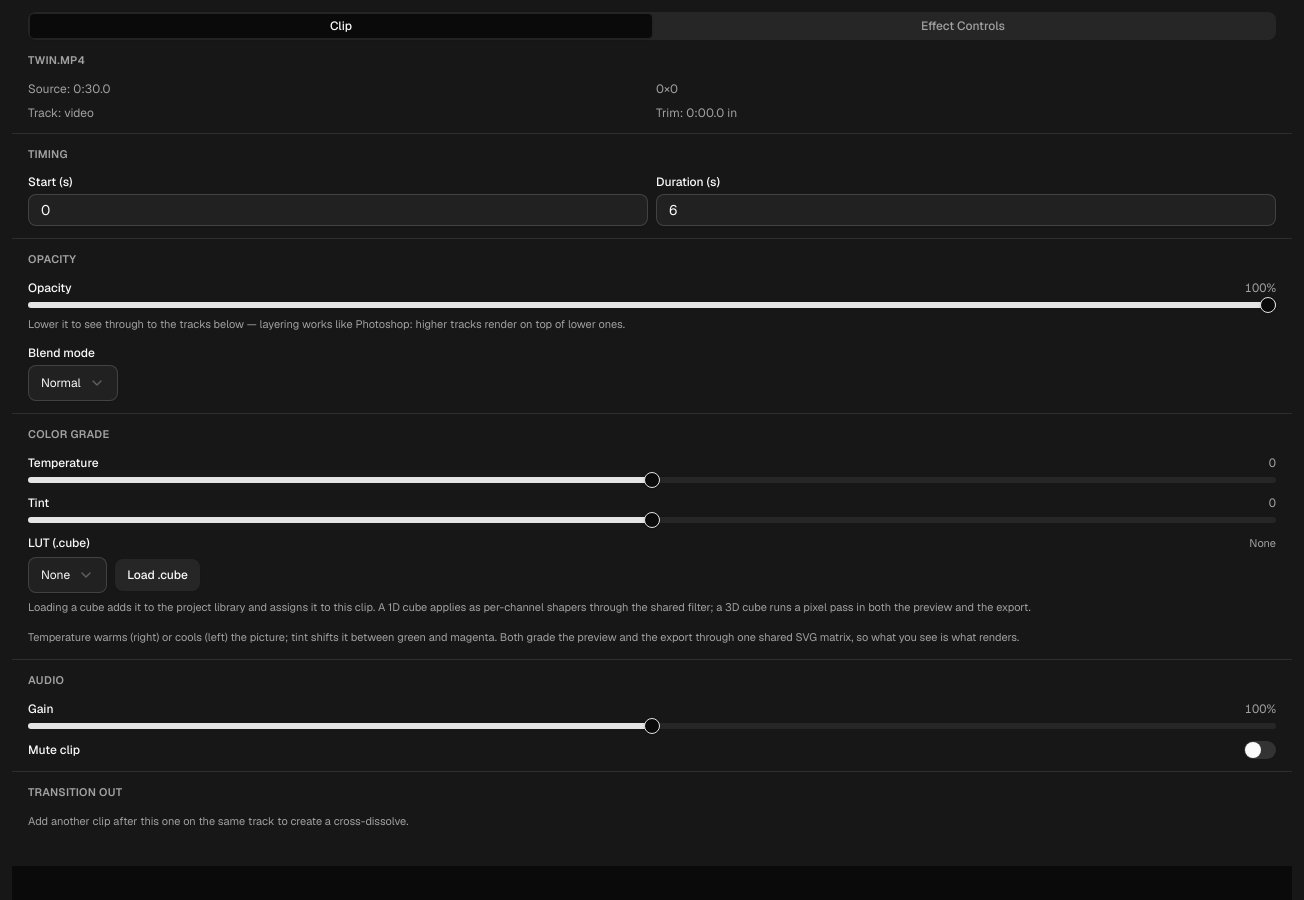
Scenario: InspectorPanel tabs › hides the picture-only rows for the A/V audio twin on a video track
The width and height of the screenshot is (1304, 900).
Click the tab with test id "inspector-tab-effects". click: (963, 26)
box: [652,14,1274,38]
(page scrolled)
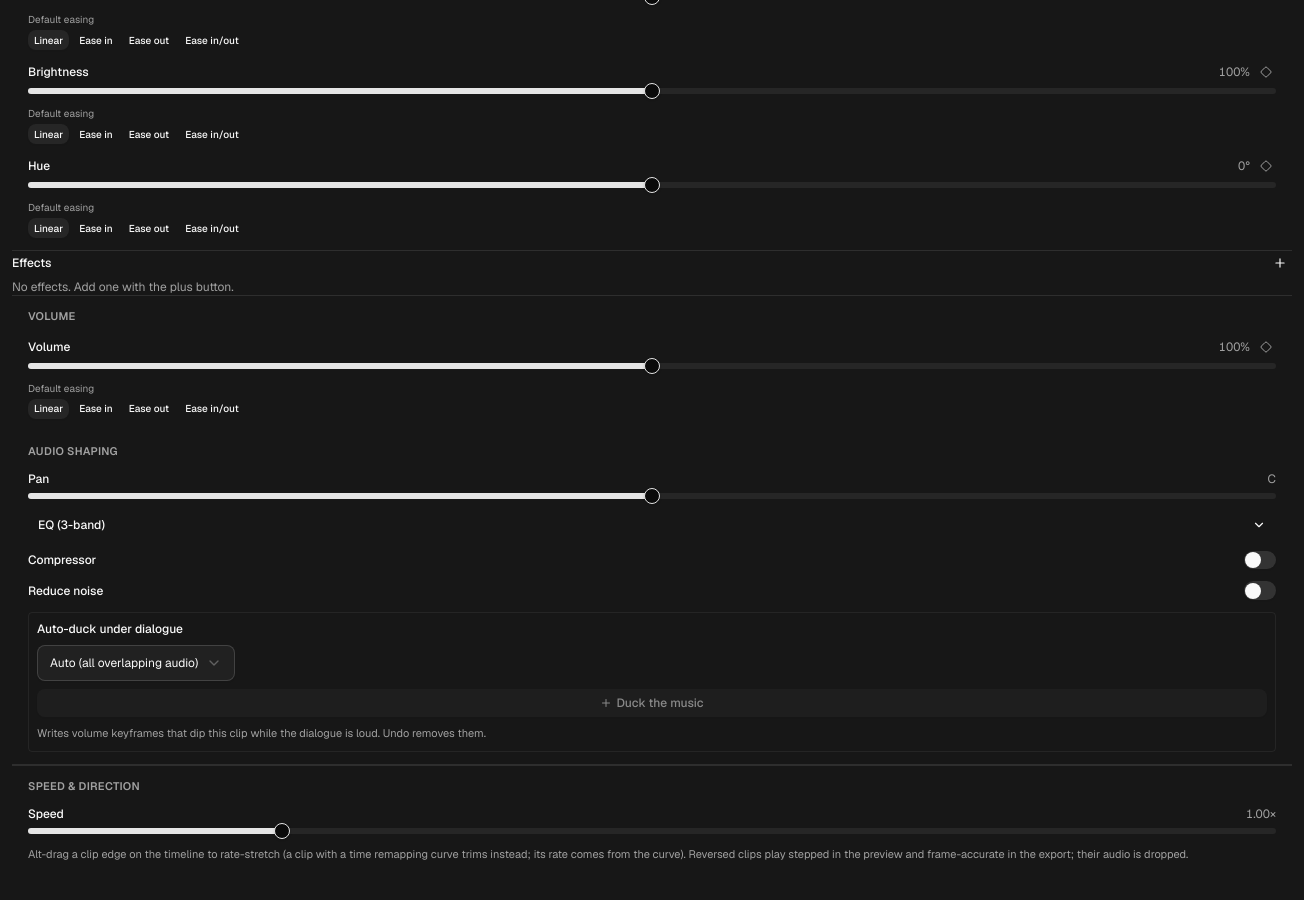
Expected: the element with test id "speed-section" is shown, [12,766,1292,876]
Expected: the slider named "Clip speed" is shown, [274,823,290,839]
